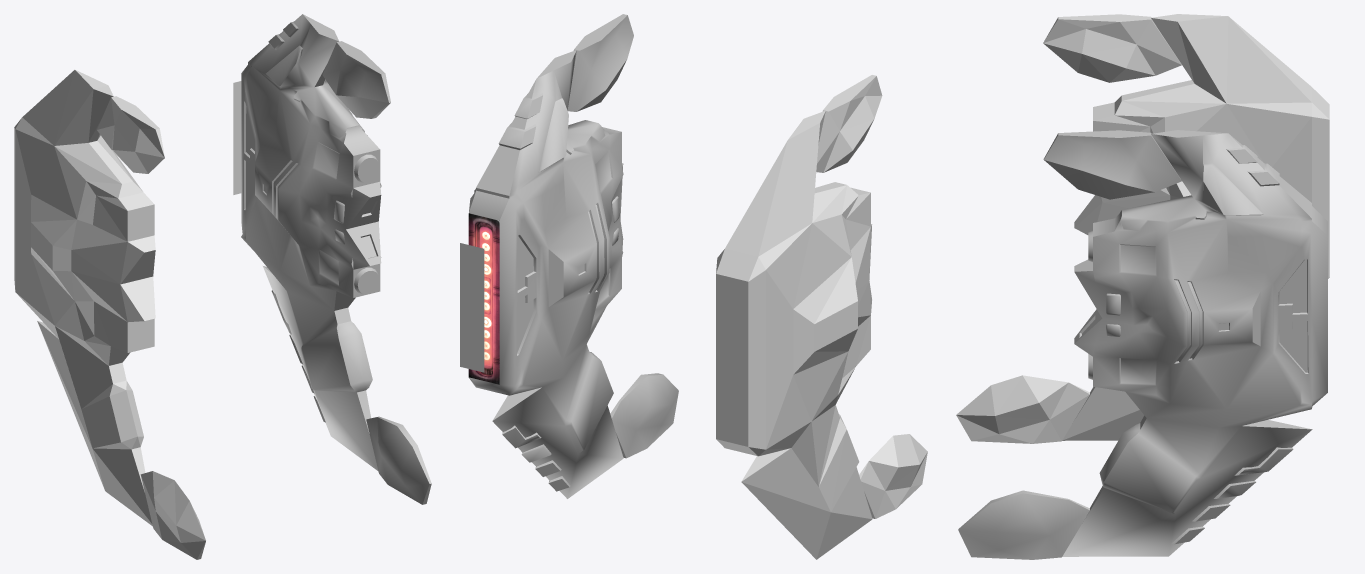
The model's file is bst_cloakedfighter.dae.
3 views of the same model, side by side, from view 1: azimuth 30°, elevation 25°; view 2: azimuth 150°, elevation 25°; view 3: azimuth 270°, elevation 25° (orthographic). The views are drawn at different scales.
Visible parts, largest first — view 1: MULT[CloakedFighter]_LOD[0], COL[Root], ETSH[EngineShape1]; view 2: COL[Root], MULT[CloakedFighter]_LOD[0], ETSH[EngineShape1]; view 3: MULT[CloakedFighter]_LOD[0], COL[Root].
Part boxes in pixels (x1,y1,x2,y2): MULT[CloakedFighter]_LOD[0]: (241,14,431,504); COL[Root]: (14,70,205,559); ETSH[EngineShape1]: (233,81,241,194); COL[Root]: (716,75,927,559); MULT[CloakedFighter]_LOD[0]: (468,14,678,498); ETSH[EngineShape1]: (460,243,484,372); MULT[CloakedFighter]_LOD[0]: (958,130,1327,559); COL[Root]: (956,14,1329,443).
Bounding box in the file's own units: 18.16 × 22.09 × 18.67.
